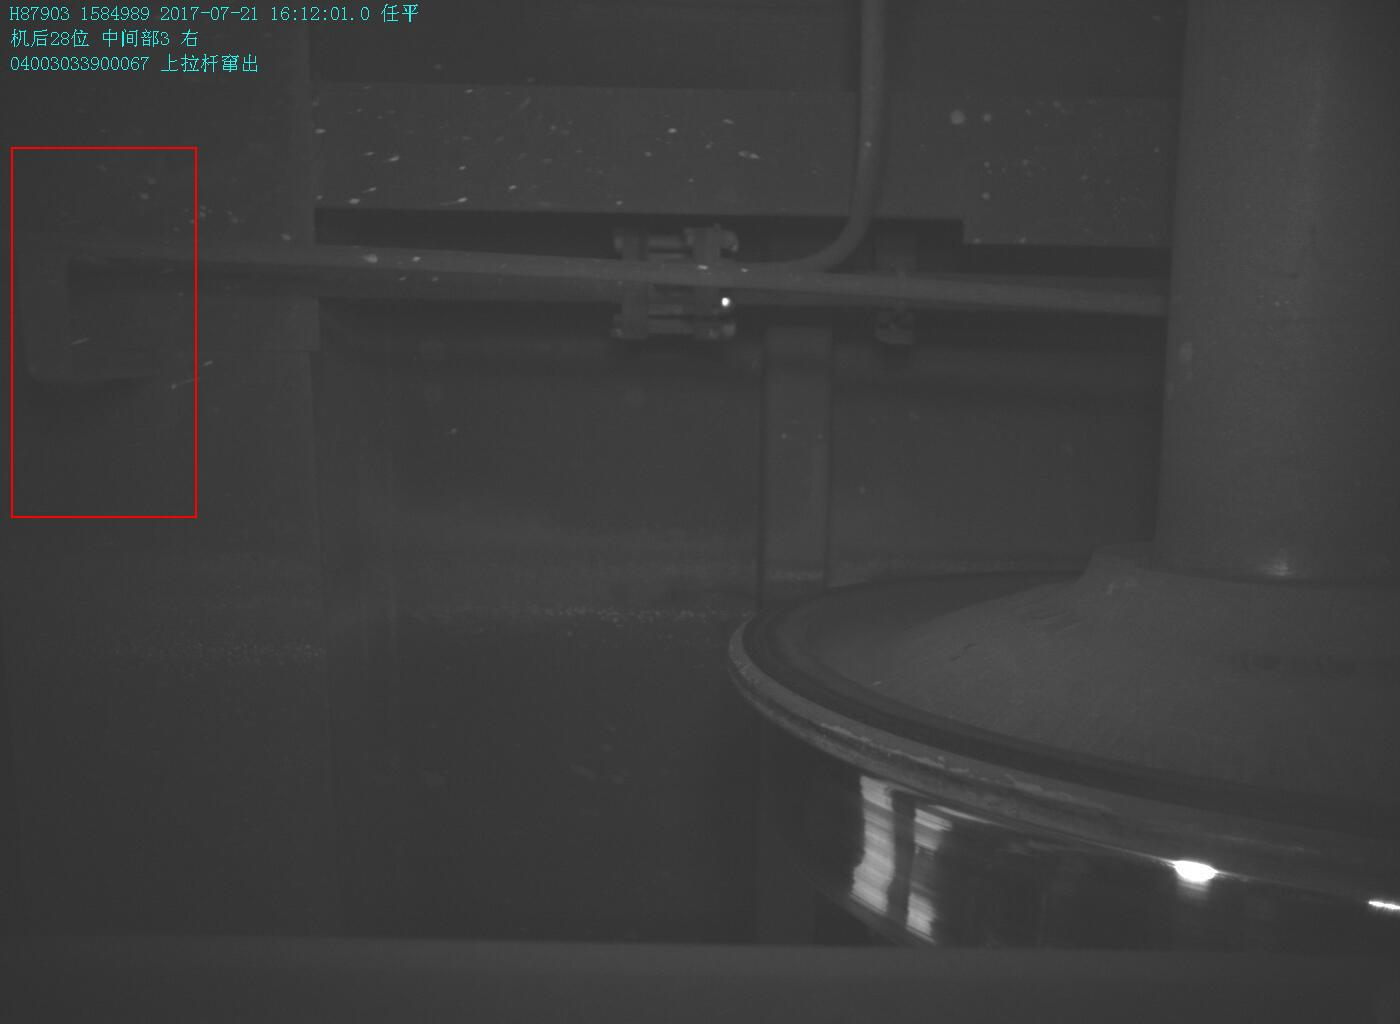Upper lever: (21, 221, 157, 386)
